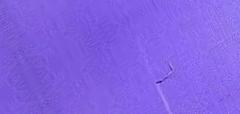snag: (152, 60, 176, 87)
